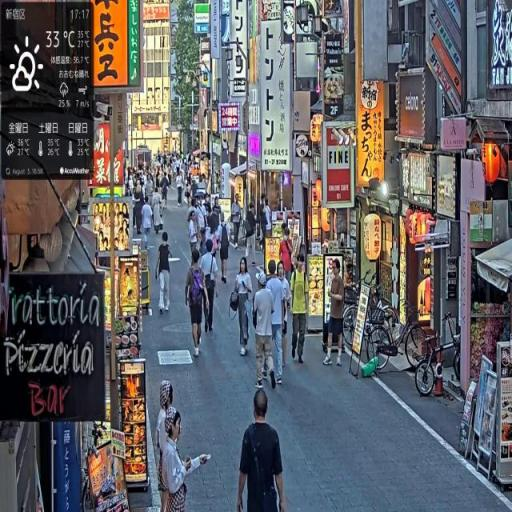person: (238, 388, 286, 512), (160, 411, 213, 512), (253, 268, 279, 391), (184, 249, 209, 362), (268, 260, 290, 383), (323, 259, 347, 368), (232, 260, 255, 359), (291, 256, 311, 367), (199, 238, 221, 335), (156, 231, 173, 317), (217, 215, 232, 286), (232, 196, 245, 250), (152, 188, 165, 236)
